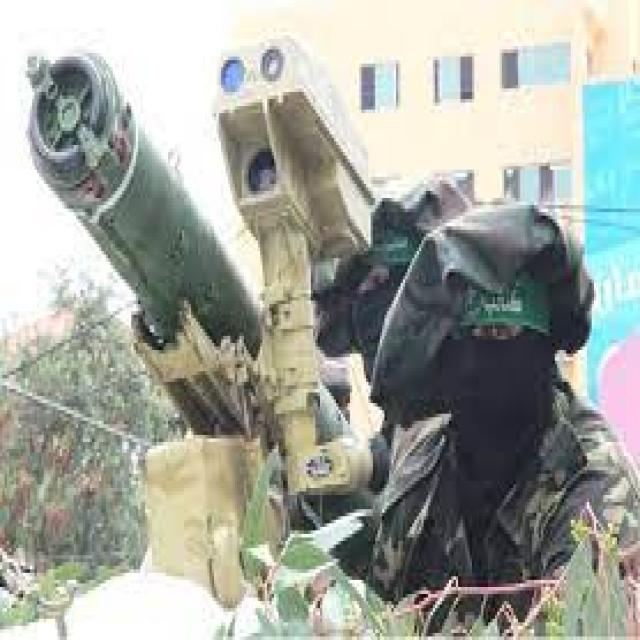bazooka: (31, 51, 400, 597)
